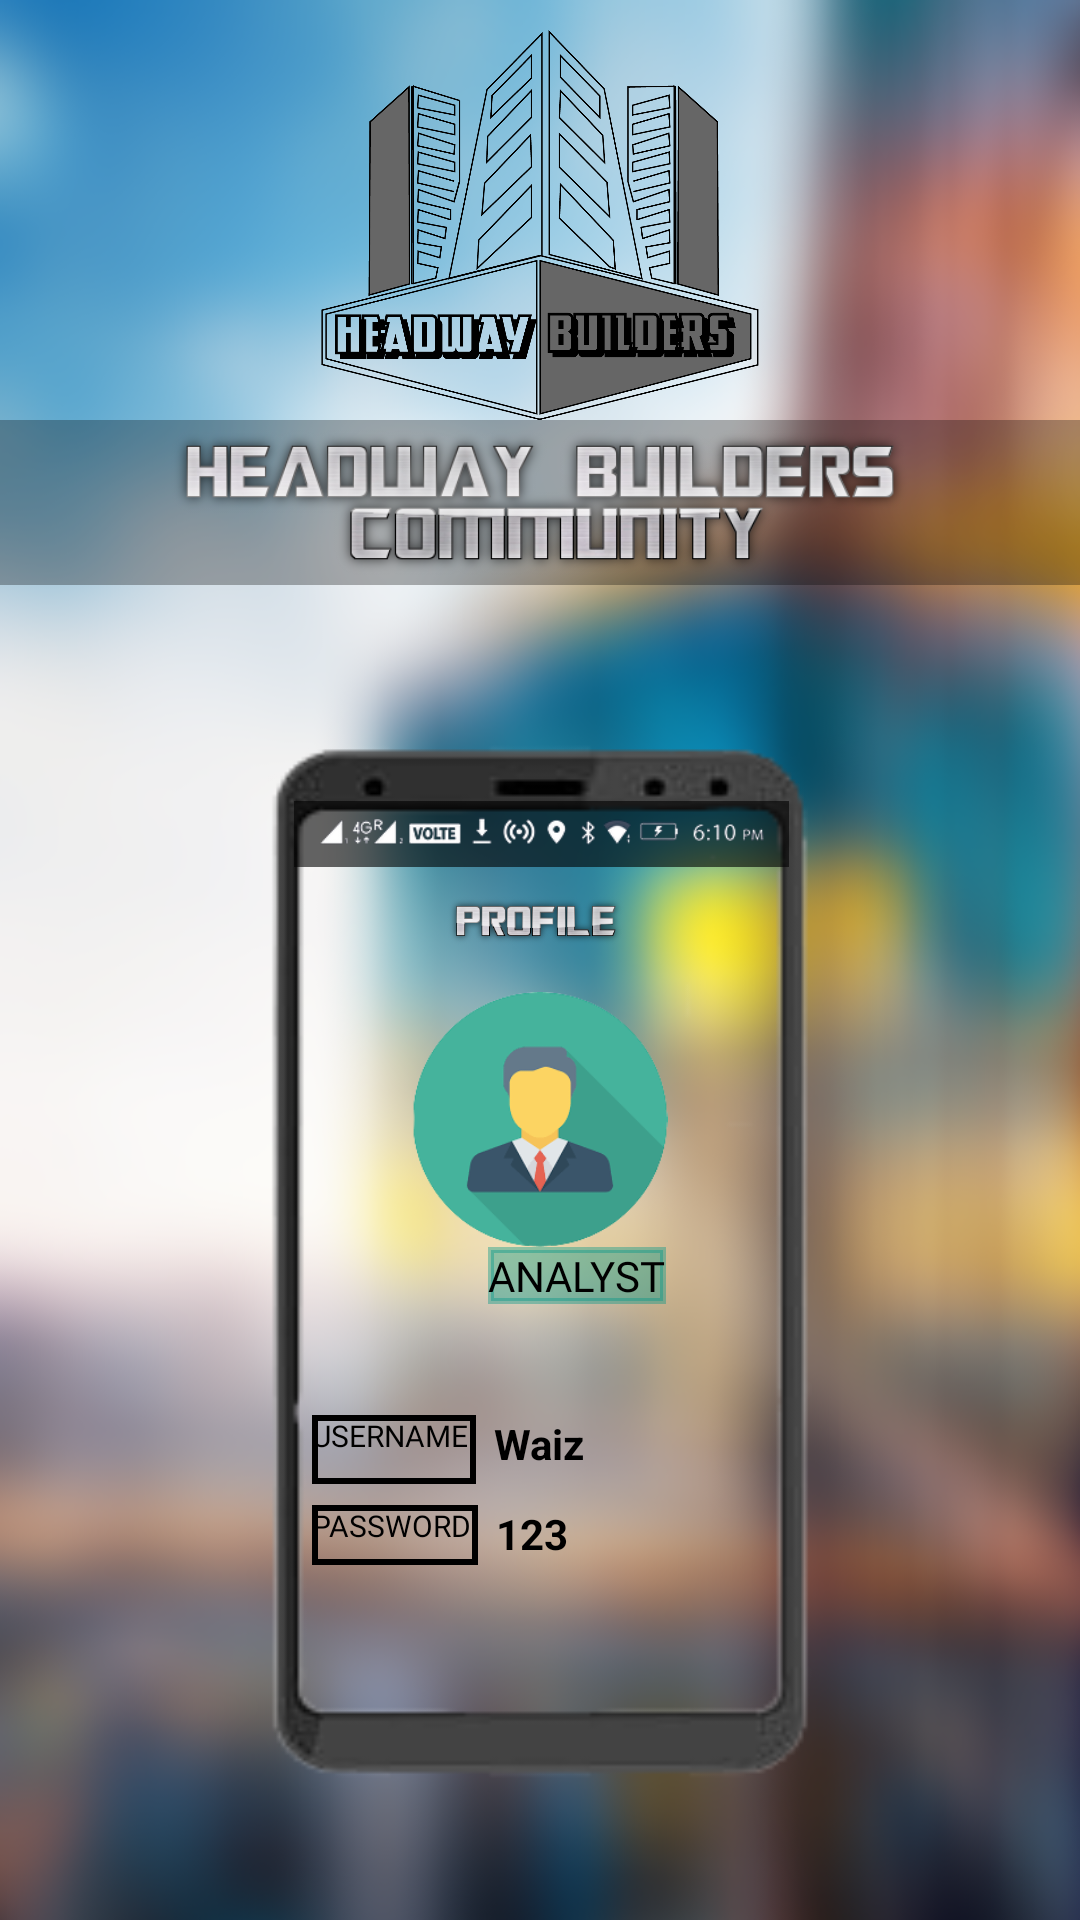

Screen size 1080×1920. Icon name, then its center in pixels as (x=x, y=y):
manager: (x=540, y=1119)
